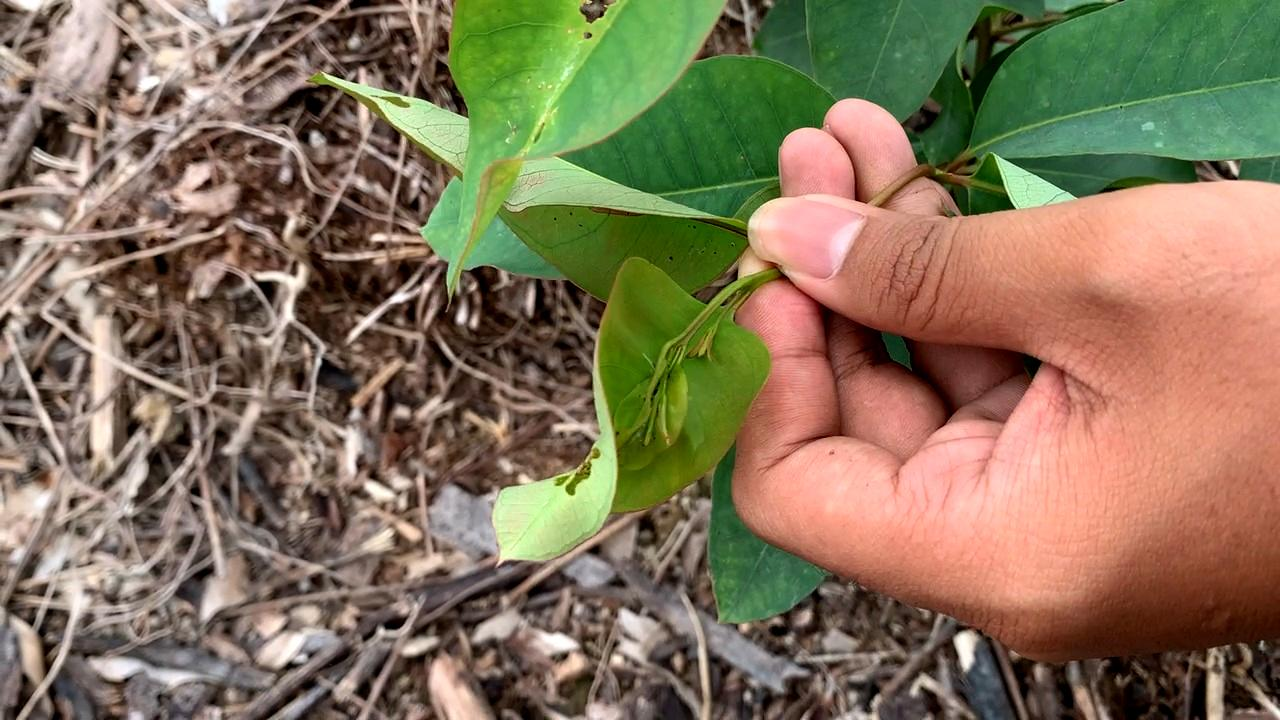Leaf Roller - Leaf: (486, 280, 793, 572)
